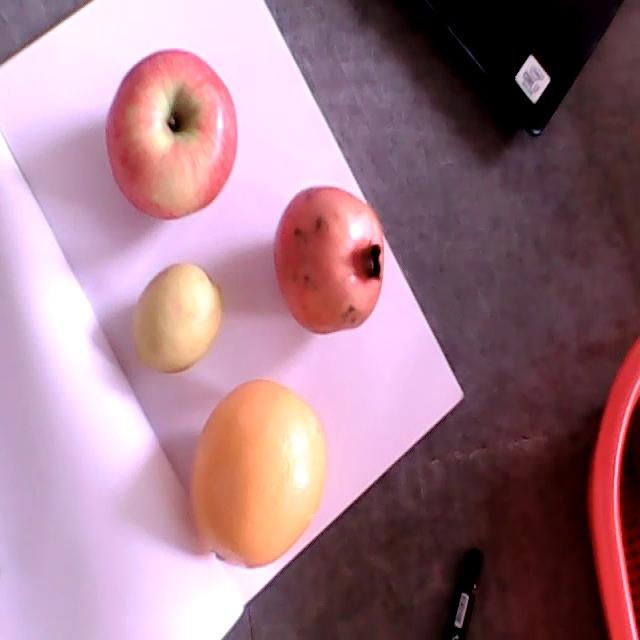apple: (106, 48, 237, 221)
lemon: (129, 260, 222, 373)
orange: (188, 377, 326, 569)
pomegranate: (273, 187, 385, 337)
